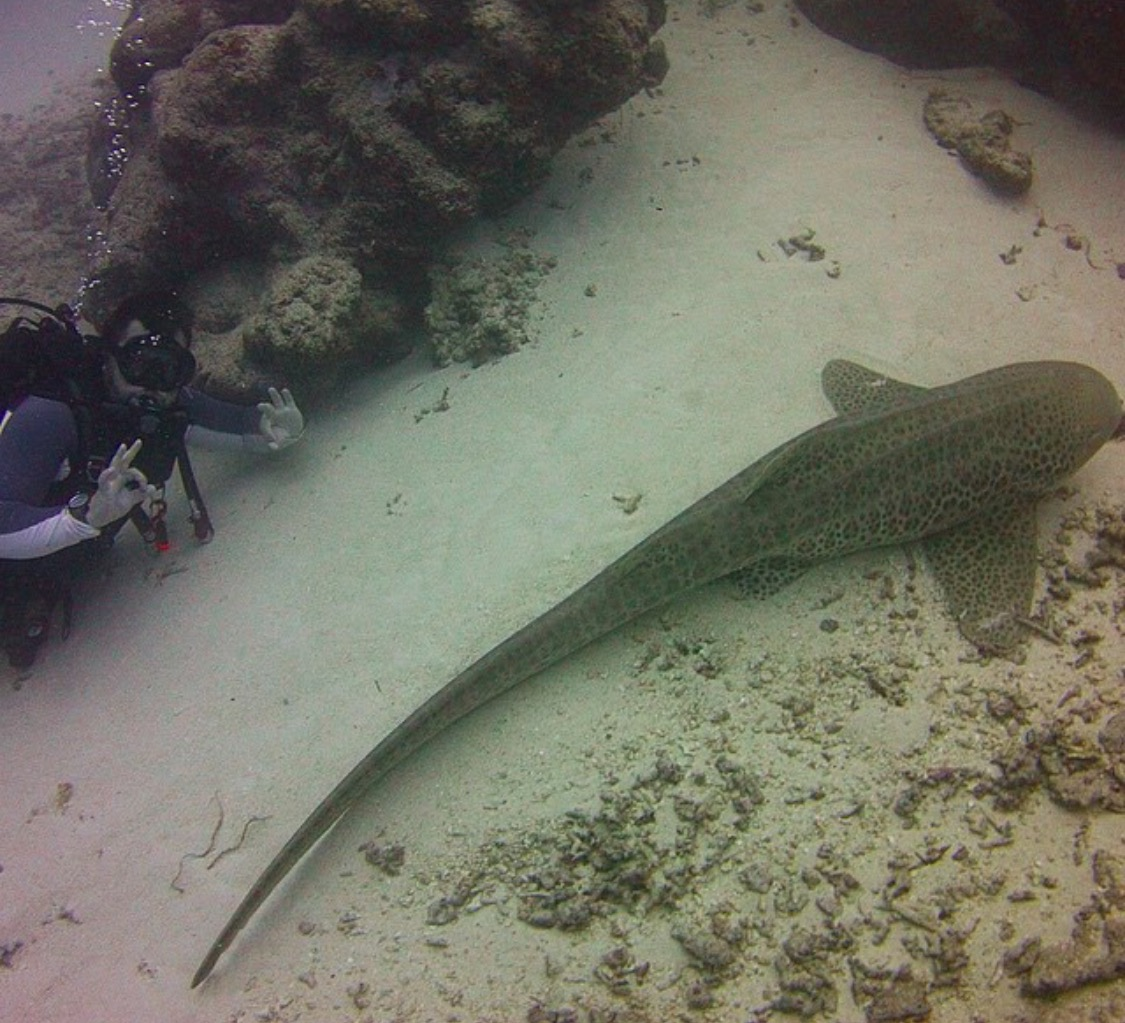shark: (178, 270, 1117, 980)
